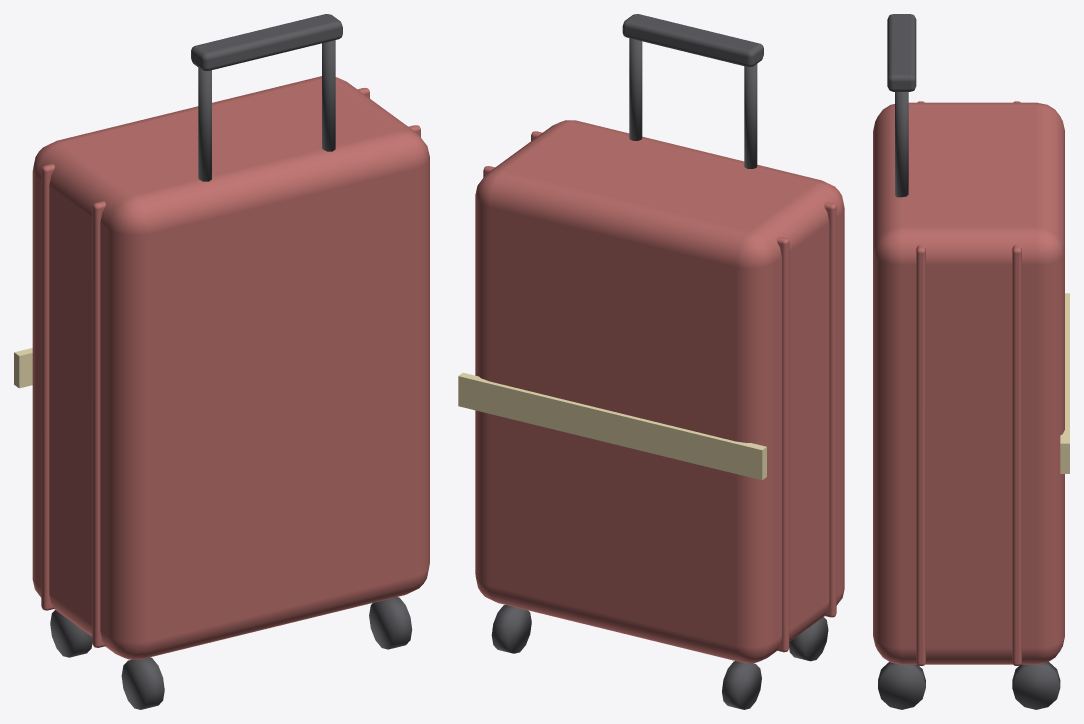
File: escena.casa.maleta.fbx
3 renders of one model, left to right at view 1: azimuth 30°, elevation 25°; view 2: azimuth 150°, elevation 25°; view 3: azimuth 270°, elevation 25°, orthographic. The views are drawn at different scales.
Visible parts, largest first — view 1: Maleta, Manilla, Nervio.001, Nervio, Rueda.003, Rueda.001, Barra de la manilla.001, Barra de la manilla, Rueda.002, Correa; view 2: Maleta, Correa, Manilla, Nervio, Nervio.001, Rueda.002, Rueda, Barra de la manilla.001, Barra de la manilla, Rueda.003; view 3: Maleta, Nervio, Nervio.001, Manilla, Rueda, Rueda.001, Barra de la manilla, Correa.
Part boxes in pixels (x1,y1,x2,y2): Maleta: [32, 76, 429, 659]; Manilla: [191, 14, 342, 70]; Nervio.001: [92, 125, 420, 647]; Nervio: [41, 88, 369, 610]; Rueda.003: [121, 657, 164, 709]; Rueda.001: [369, 597, 412, 649]; Barra de la manilla.001: [198, 67, 211, 181]; Barra de la manilla: [322, 40, 335, 151]; Rueda.002: [50, 610, 92, 657]; Correa: [14, 348, 32, 388]; Maleta: [475, 120, 844, 663]; Correa: [458, 372, 766, 480]; Manilla: [622, 14, 763, 66]; Nervio: [483, 166, 789, 652]; Nervio.001: [531, 131, 836, 617]; Rueda.002: [722, 661, 761, 709]; Rueda: [491, 605, 531, 653]; Barra de la manilla.001: [744, 64, 757, 168]; Barra de la manilla: [629, 38, 642, 140]; Rueda.003: [789, 617, 828, 661]; Maleta: [873, 102, 1064, 664]; Nervio: [1012, 101, 1021, 665]; Nervio.001: [916, 101, 925, 665]; Manilla: [887, 14, 916, 91]; Rueda: [1012, 662, 1060, 709]; Rueda.001: [878, 662, 925, 709]; Barra de la manilla: [895, 92, 908, 197]; Correa: [1060, 293, 1069, 473].
Size of the model in its own units: 0.37 by 0.695 by 0.205.
